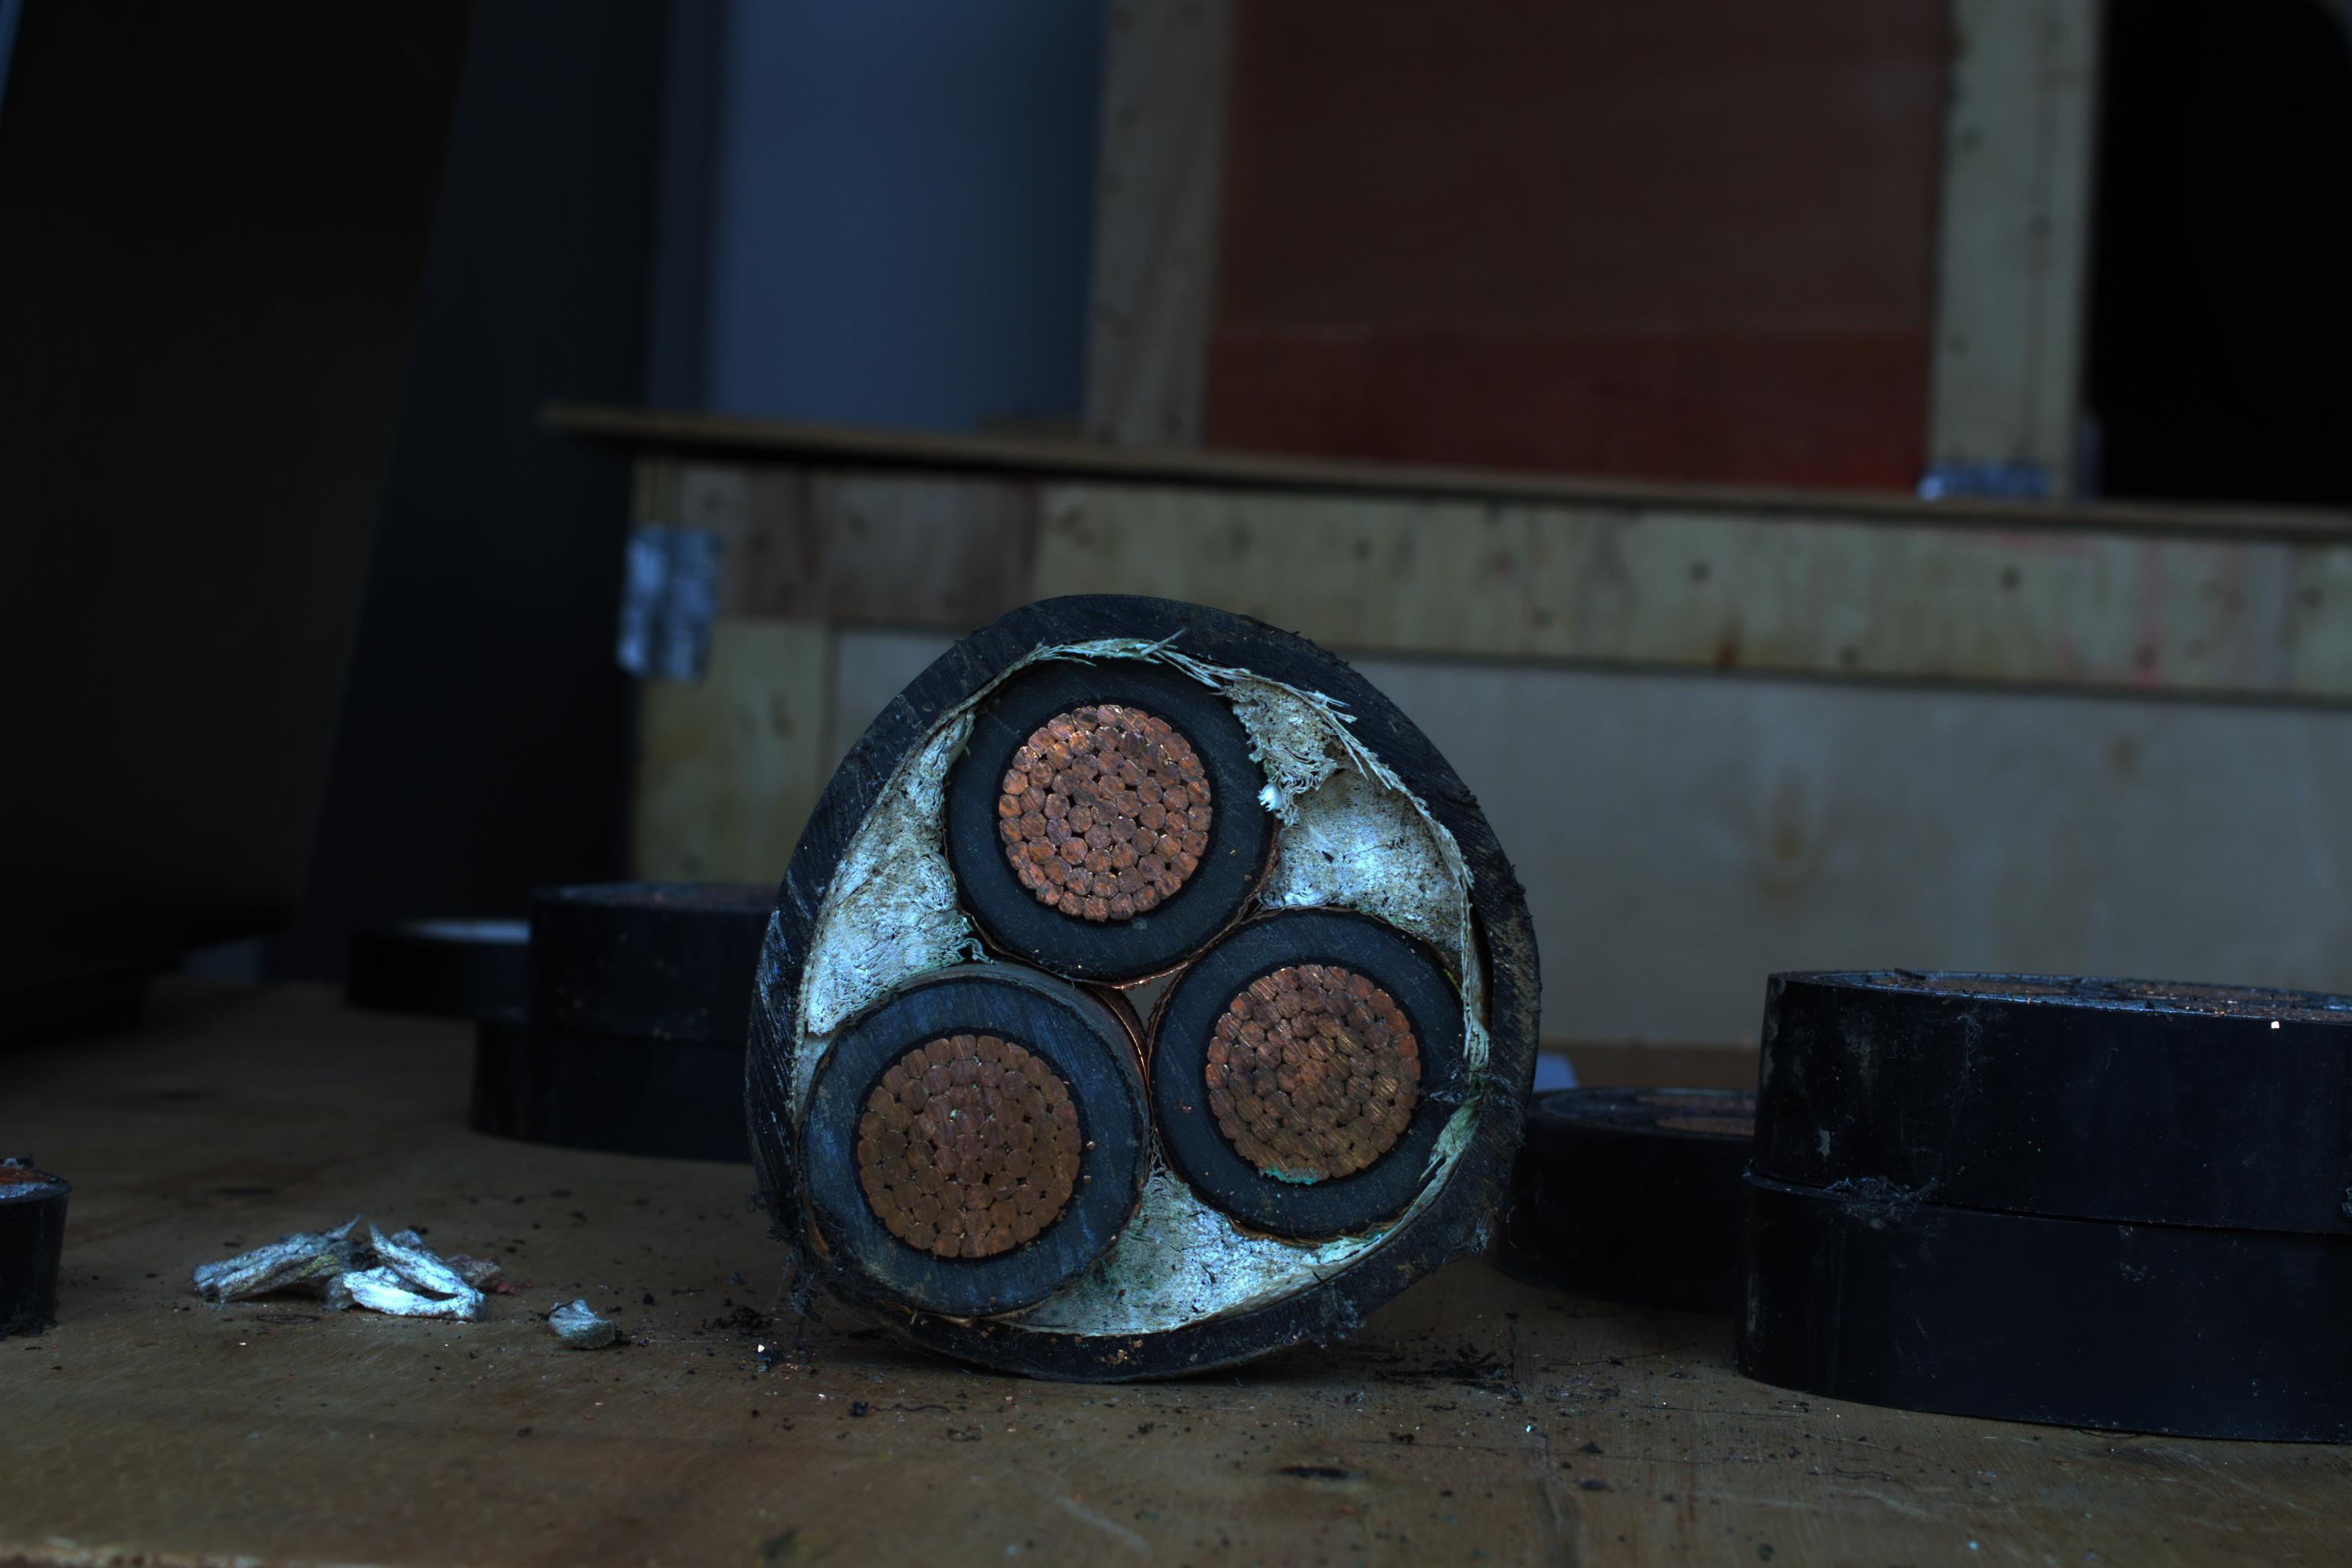ZA_YJV_8.7_10kV_3x400: (747, 604, 1568, 1375)
